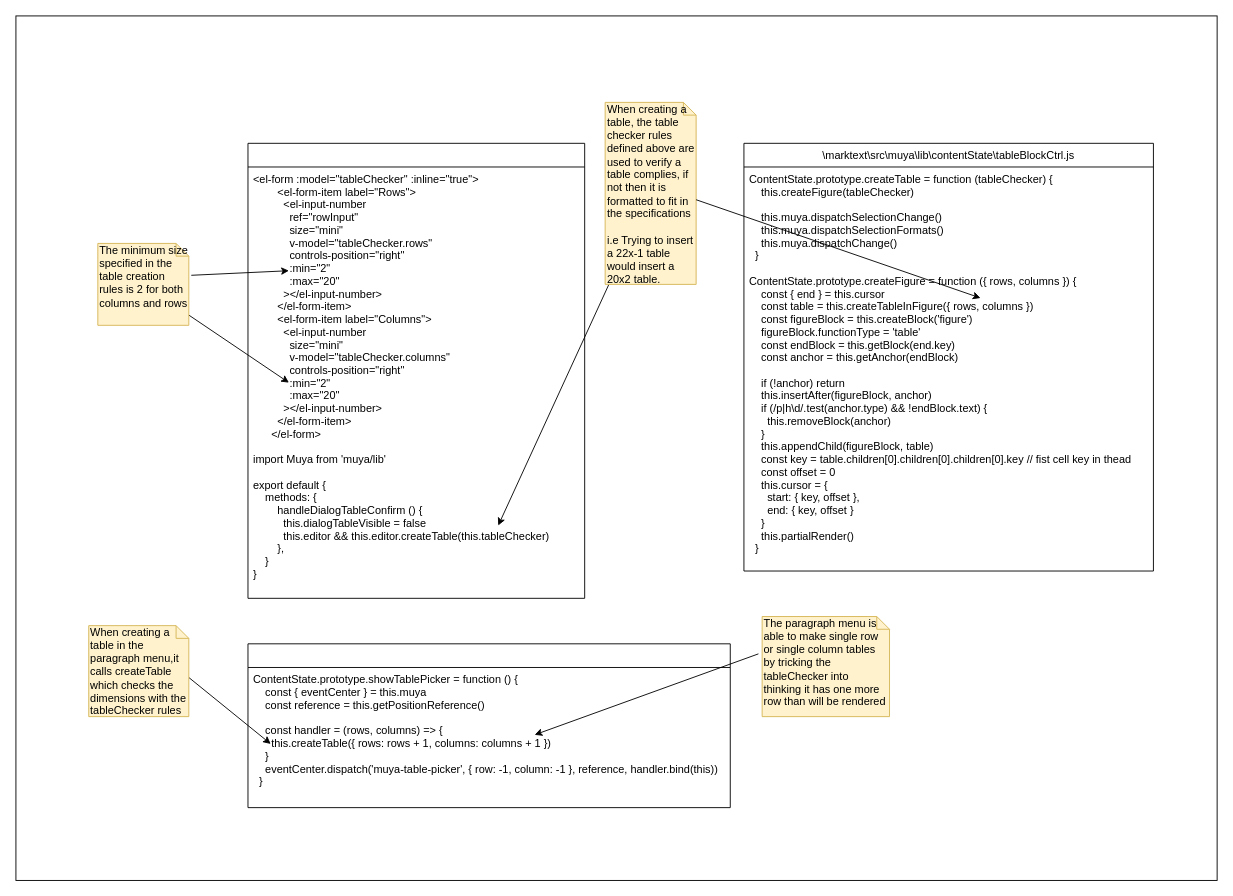
Some shapes in this 1233 by 896 pixel diagram are drawn without their labels. The box of each missing label's shape, as (x1, y1, x2, y2) in pixels:
\marktext\src\muya\lib\contentState\paragraphCtrl.js: (247, 643, 730, 808)
\marktext\src\renderer\components\editorWithTabs\editor.vue: (247, 142, 585, 598)
